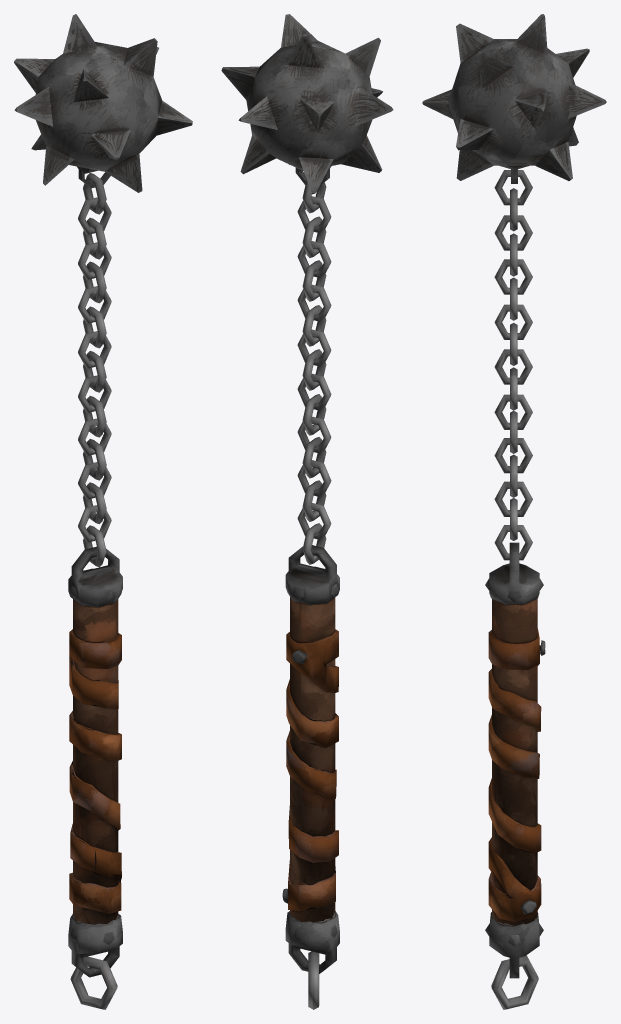
Rendered from WarFlail.fbx.
The picture shows the model from 3 angles, left to right: view 1: azimuth 30°, elevation 25°; view 2: azimuth 150°, elevation 25°; view 3: azimuth 270°, elevation 25°; orthographic projection.
Parts seen in each view (by area): view 1: Cylinder.003, Icosphere.021, Torus.054, Torus.059, Torus.061, Torus.069, Torus.055, Torus.057, Torus.067, Torus.063, Torus.065, Torus.056 (+7 smaller); view 2: Cylinder.003, Icosphere.021, Torus.063, Torus.059, Torus.067, Torus.061, Torus.055, Torus.057, Torus.069, Torus.065, Torus.056, Torus.060 (+6 smaller); view 3: Cylinder.003, Icosphere.021, Torus.058, Torus.062, Torus.064, Torus.056, Torus.068, Torus.054, Torus.060, Torus.066, Torus.070.
Part boxes in pixels (bbox=[...]): Cylinder.003: bbox=[68, 546, 122, 1009]; Icosphere.021: bbox=[14, 14, 192, 192]; Torus.054: bbox=[83, 173, 106, 214]; Torus.059: bbox=[78, 286, 111, 323]; Torus.061: bbox=[78, 331, 111, 368]; Torus.069: bbox=[78, 505, 111, 542]; Torus.055: bbox=[78, 197, 111, 234]; Torus.057: bbox=[78, 242, 111, 279]; Torus.067: bbox=[78, 462, 111, 499]; Torus.063: bbox=[78, 375, 111, 412]; Torus.065: bbox=[78, 418, 111, 455]; Torus.056: bbox=[83, 217, 106, 259]; Cylinder.003: bbox=[282, 545, 339, 1009]; Icosphere.021: bbox=[221, 14, 393, 194]; Torus.063: bbox=[297, 373, 331, 411]; Torus.059: bbox=[297, 284, 331, 322]; Torus.067: bbox=[297, 460, 331, 497]; Torus.061: bbox=[297, 329, 331, 366]; Torus.055: bbox=[297, 196, 331, 233]; Torus.057: bbox=[297, 241, 331, 278]; Torus.069: bbox=[297, 503, 331, 540]; Torus.065: bbox=[297, 416, 331, 453]; Torus.056: bbox=[302, 216, 326, 257]; Torus.060: bbox=[302, 305, 326, 346]; Cylinder.003: bbox=[485, 542, 545, 1009]; Icosphere.021: bbox=[422, 14, 606, 183]; Torus.058: bbox=[494, 259, 532, 294]; Torus.062: bbox=[494, 349, 532, 384]; Torus.064: bbox=[494, 394, 532, 429]; Torus.056: bbox=[494, 215, 532, 250]; Torus.068: bbox=[494, 481, 532, 516]; Torus.054: bbox=[494, 170, 532, 205]; Torus.060: bbox=[494, 304, 532, 339]; Torus.066: bbox=[494, 438, 532, 473]; Torus.070: bbox=[494, 525, 532, 560].
Size of the model in its own units: 73.8 by 442 by 74.58.
Materials: 1 (1 with a texture image).
